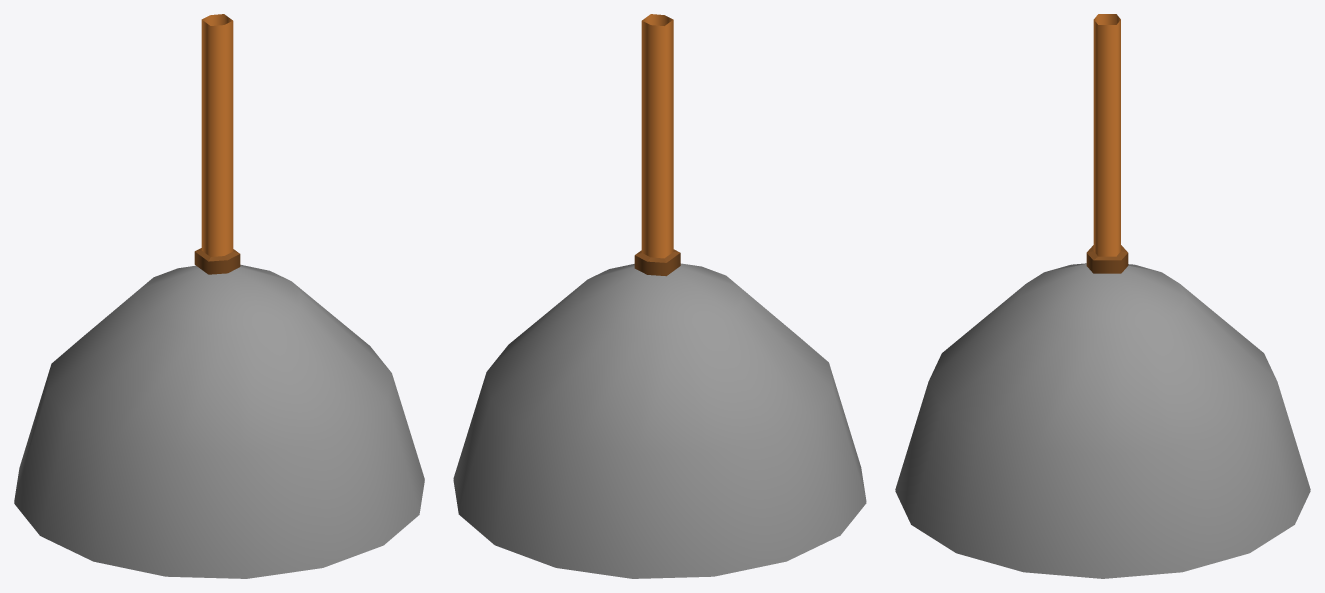
File: Prop_lamp.FBX
The picture shows the model from 3 angles, left to right: view 1: azimuth 30°, elevation 25°; view 2: azimuth 150°, elevation 25°; view 3: azimuth 270°, elevation 25°; orthographic projection.
Parts seen in each view (by area): view 1: Prop_lamp1; view 2: Prop_lamp1; view 3: Prop_lamp1.
Part boxes in pixels (x1,y1,x2,y2): Prop_lamp1: (14, 14, 424, 578); Prop_lamp1: (453, 14, 866, 578); Prop_lamp1: (895, 14, 1310, 578).
Size of the model in its own units: 32.71 by 32.71 by 41.
